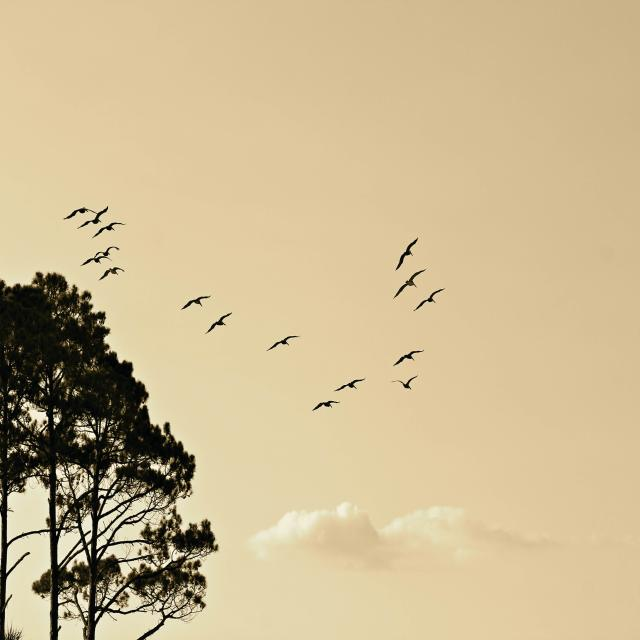bird: (393, 271, 424, 298), (394, 238, 419, 270), (414, 286, 444, 311), (393, 347, 422, 367), (268, 335, 300, 352), (334, 375, 366, 392), (86, 208, 114, 226), (182, 295, 214, 310), (208, 314, 234, 332), (394, 375, 418, 392), (96, 223, 124, 237), (82, 252, 110, 266), (62, 206, 91, 219), (311, 399, 337, 412), (102, 268, 126, 280)
